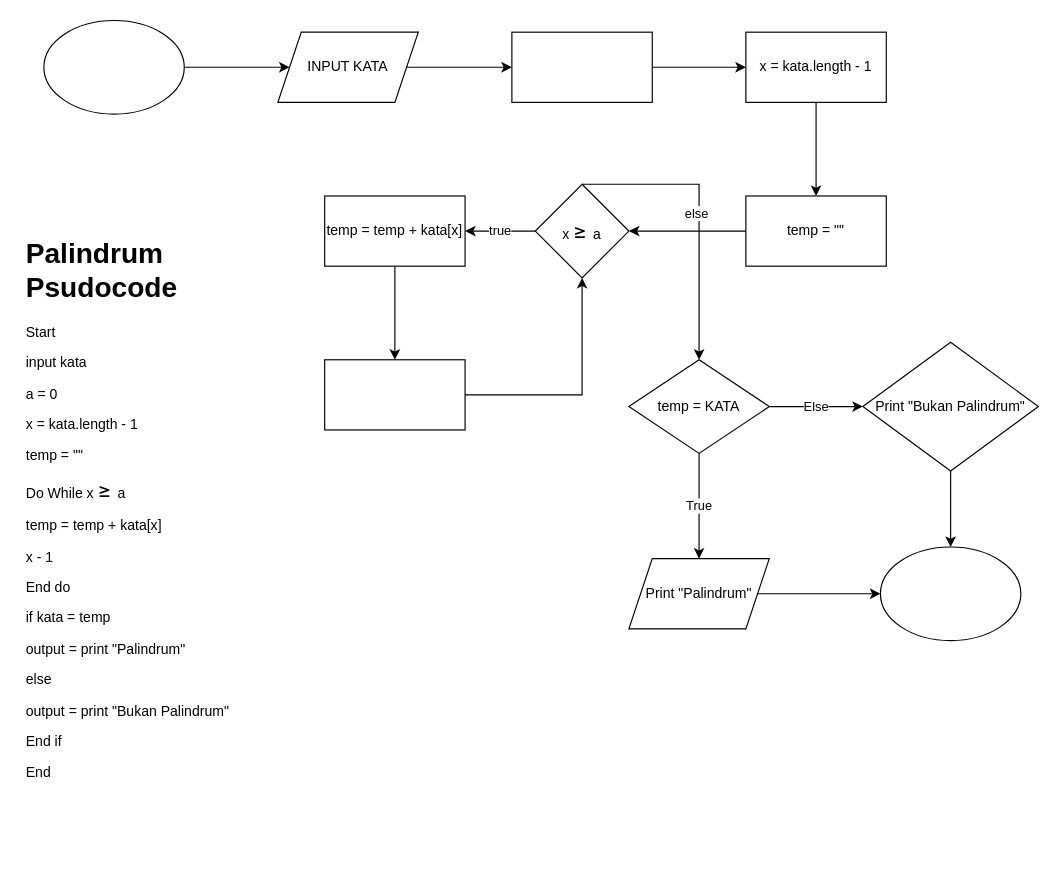
Some shapes in this 1059 by 883 pixel diagram are drawn without their labels. The shapes that lost their labels are listed below. From the top down, each one's centre as x and y in pixels, then its label:
the point at 113,66: START
the point at 581,66: a = 0
the point at 394,394: x - 1
the point at 950,593: END
